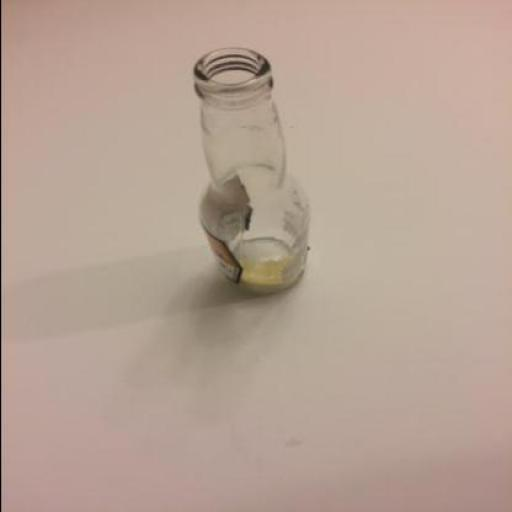glass: (194, 46, 312, 292)
